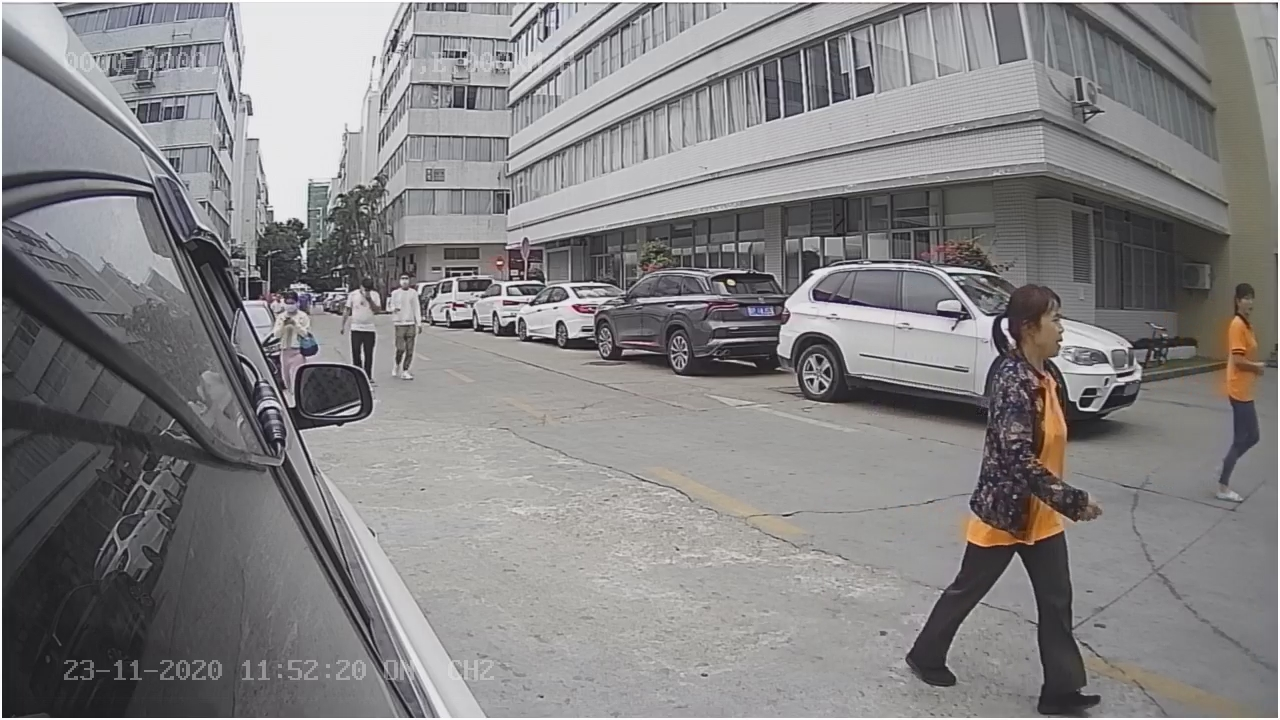person: (948, 279, 1097, 710)
